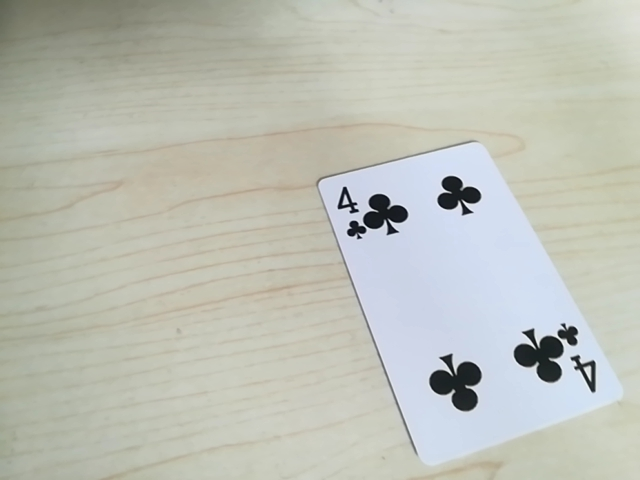mh 4: (554, 318, 595, 400), (327, 187, 365, 244)
